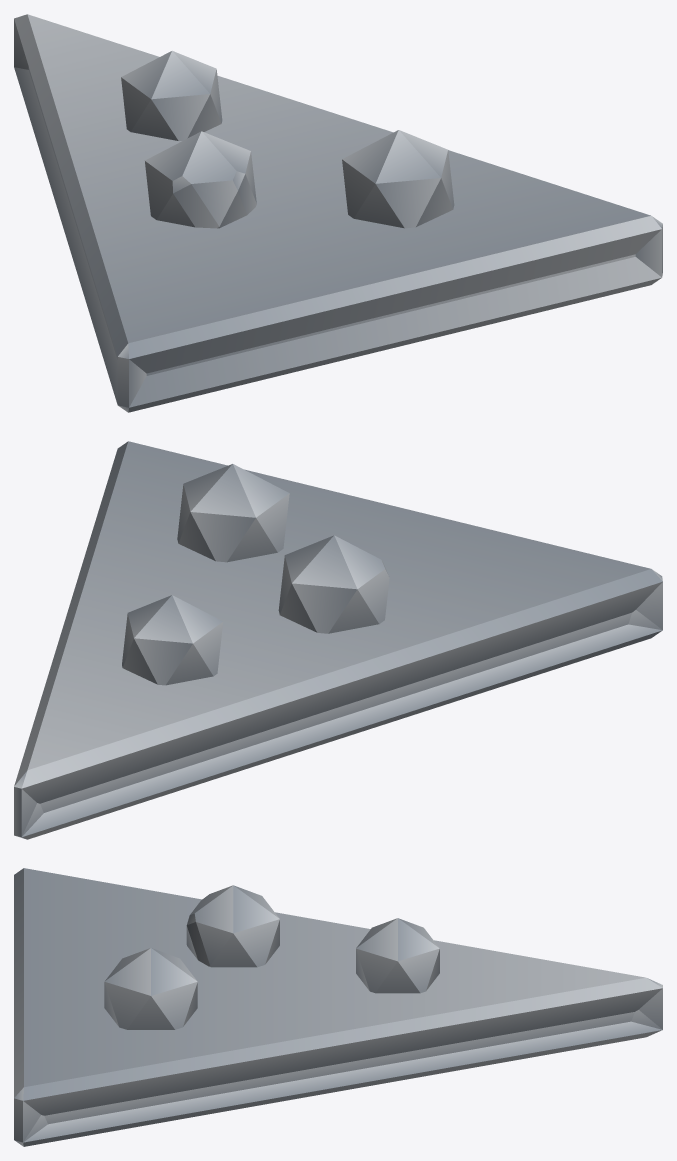
Rendered from dt_pizza_slice.fbx.
3 renders of one model, top to bottom at view 1: azimuth 30°, elevation 25°; view 2: azimuth 150°, elevation 25°; view 3: azimuth 270°, elevation 25°, orthographic. The views are drawn at different scales.
Parts seen in each view (by area): view 1: dt_pizza_slice; view 2: dt_pizza_slice; view 3: dt_pizza_slice.
Part boxes in pixels (x1=…): dt_pizza_slice: x1=14, y1=14, x2=662, y2=412; dt_pizza_slice: x1=14, y1=441, x2=662, y2=839; dt_pizza_slice: x1=14, y1=868, x2=662, y2=1146.
Size of the model in its own units: 75 by 19.01 by 90.
